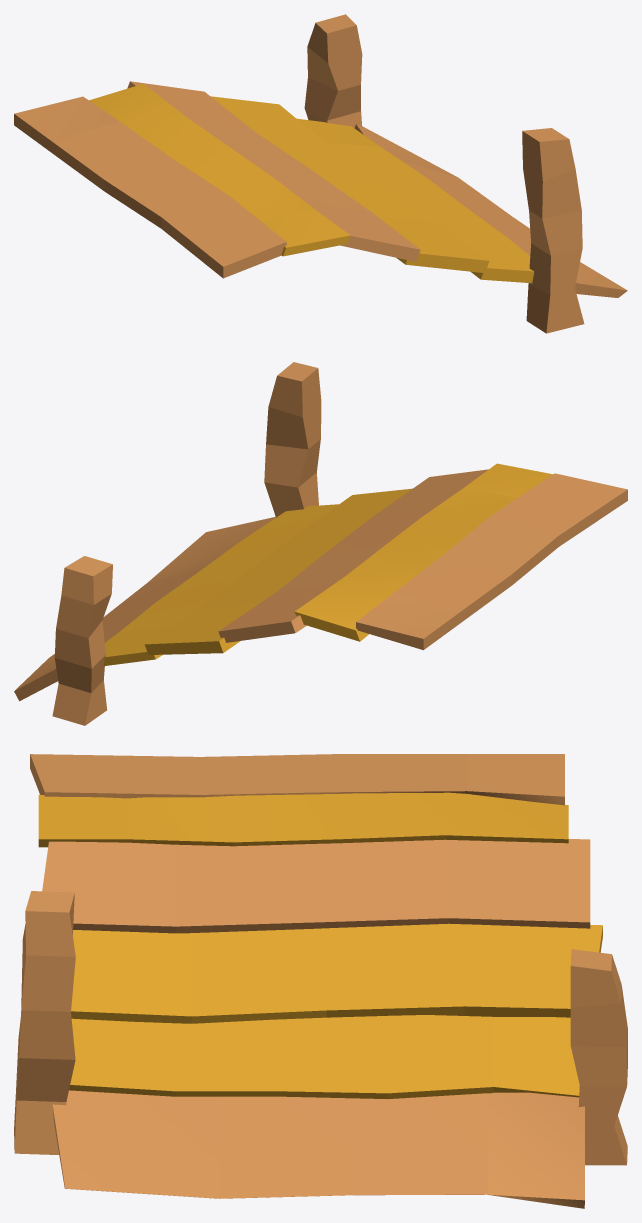
File: rampa2.fbx
The picture shows the model from 3 angles, top to bottom: view 1: azimuth 30°, elevation 25°; view 2: azimuth 150°, elevation 25°; view 3: azimuth 270°, elevation 25°; orthographic projection. The views are drawn at different scales.
Visible parts, largest first — view 1: Object_2; view 2: Object_2; view 3: Object_2.
Part boxes in pixels (x1,y1,x2,y2): Object_2: [14, 14, 627, 333]; Object_2: [14, 362, 627, 725]; Object_2: [14, 754, 627, 1208].
Size of the model in its own units: 1212 by 567 by 1205.
